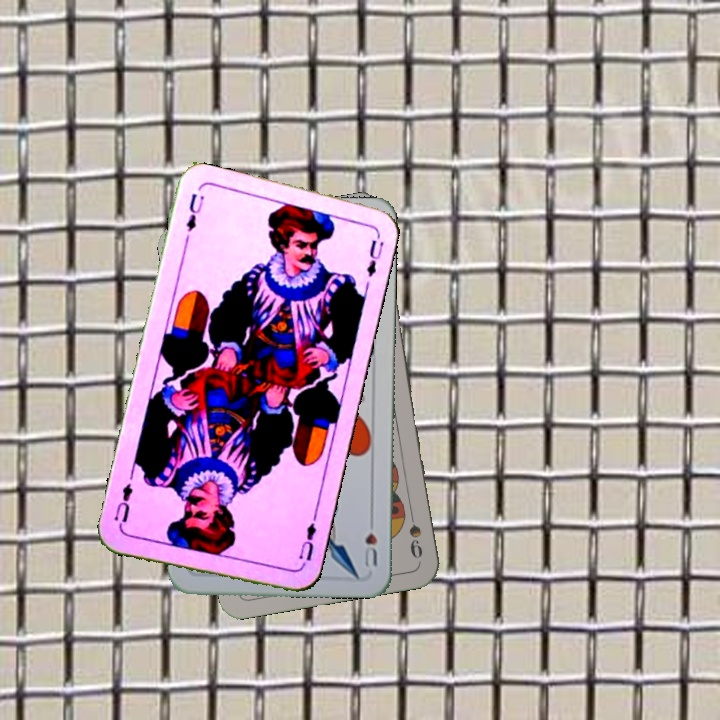EU: (295, 518, 319, 570), (182, 189, 207, 234)
HU: (360, 512, 379, 569)
S9: (405, 503, 426, 561)
